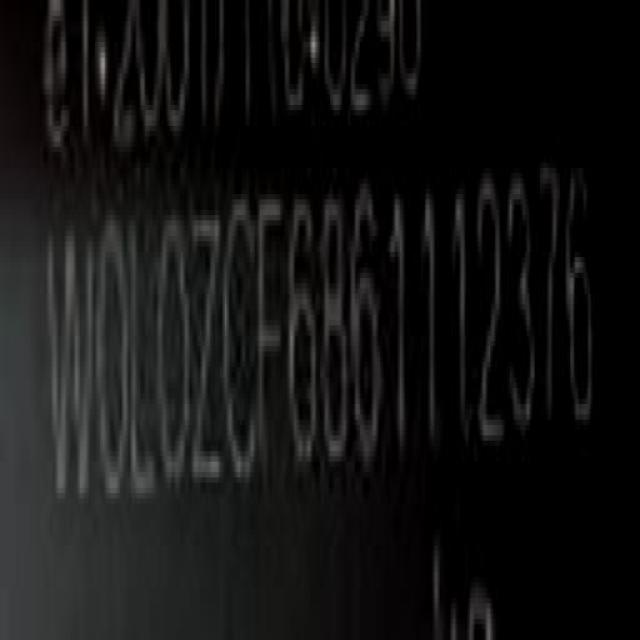0: (98, 220, 128, 512), (160, 211, 190, 502)
1: (390, 184, 412, 474), (451, 173, 472, 460), (419, 179, 436, 468)
2: (474, 168, 502, 454)
3: (510, 164, 534, 448)
6: (352, 182, 382, 476), (290, 188, 319, 487), (566, 156, 593, 433)
7: (539, 155, 563, 436)
B: (320, 187, 347, 482)
C: (227, 195, 256, 497)
F: (257, 190, 284, 486)
L: (129, 216, 159, 499)
W: (47, 224, 94, 520)
Z: (192, 198, 222, 504)
